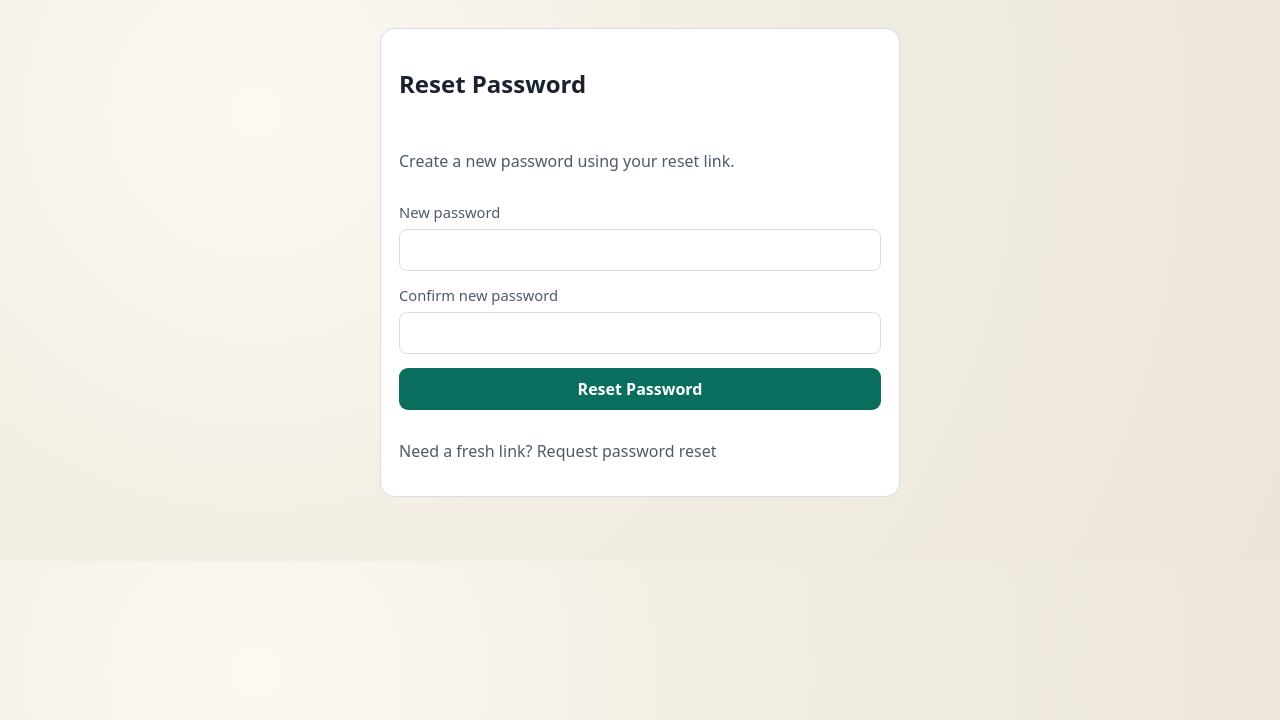
Test: ResetPasswordClient › shows success state on reset
Type "new-password-123" into the password field labelled "New password" at (640,250), box [399,229,881,271]
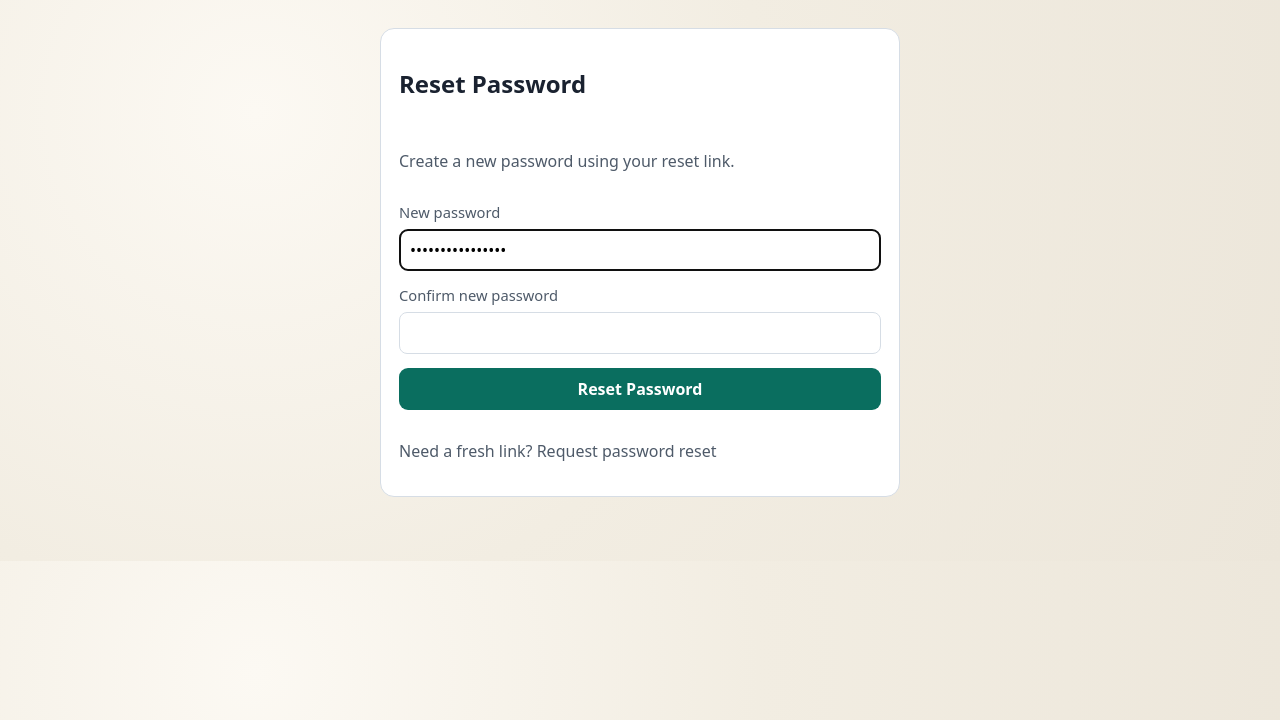
Type "new-password-123" into the password field labelled "Confirm new password" at (640,333), box [399,312,881,354]
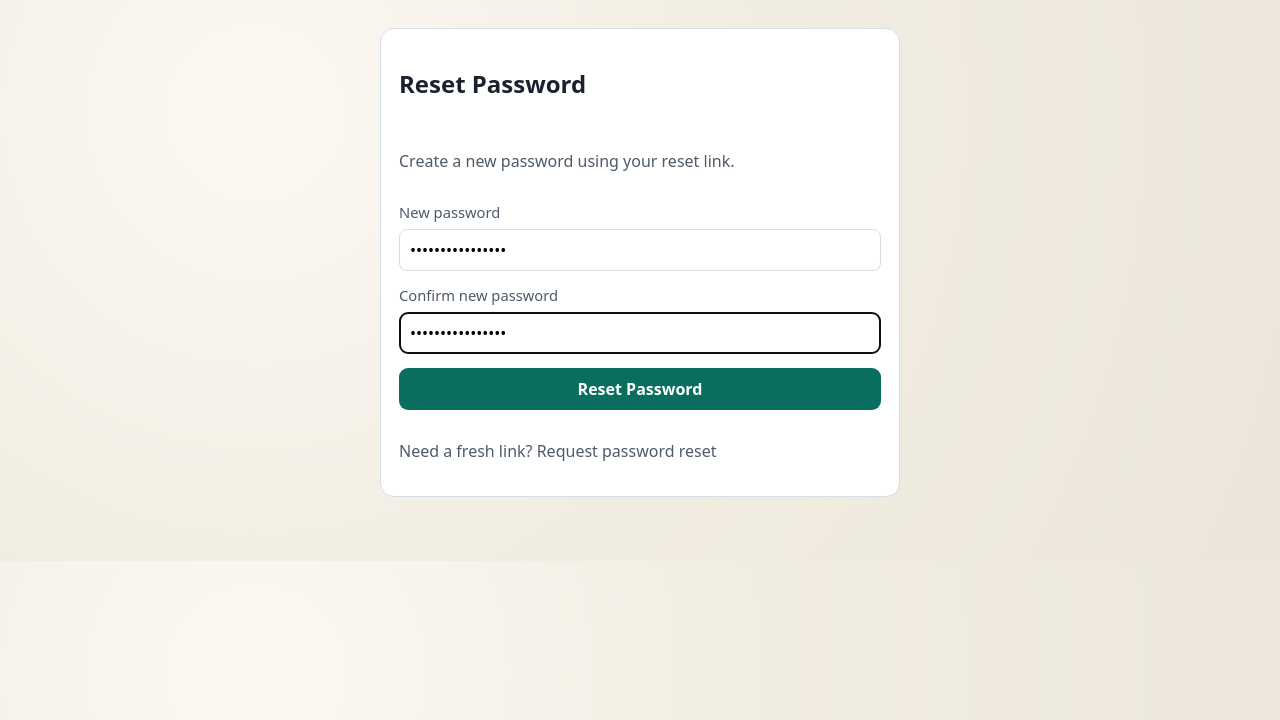
Click the button "Reset Password" at (640,389), box [399,368,881,410]
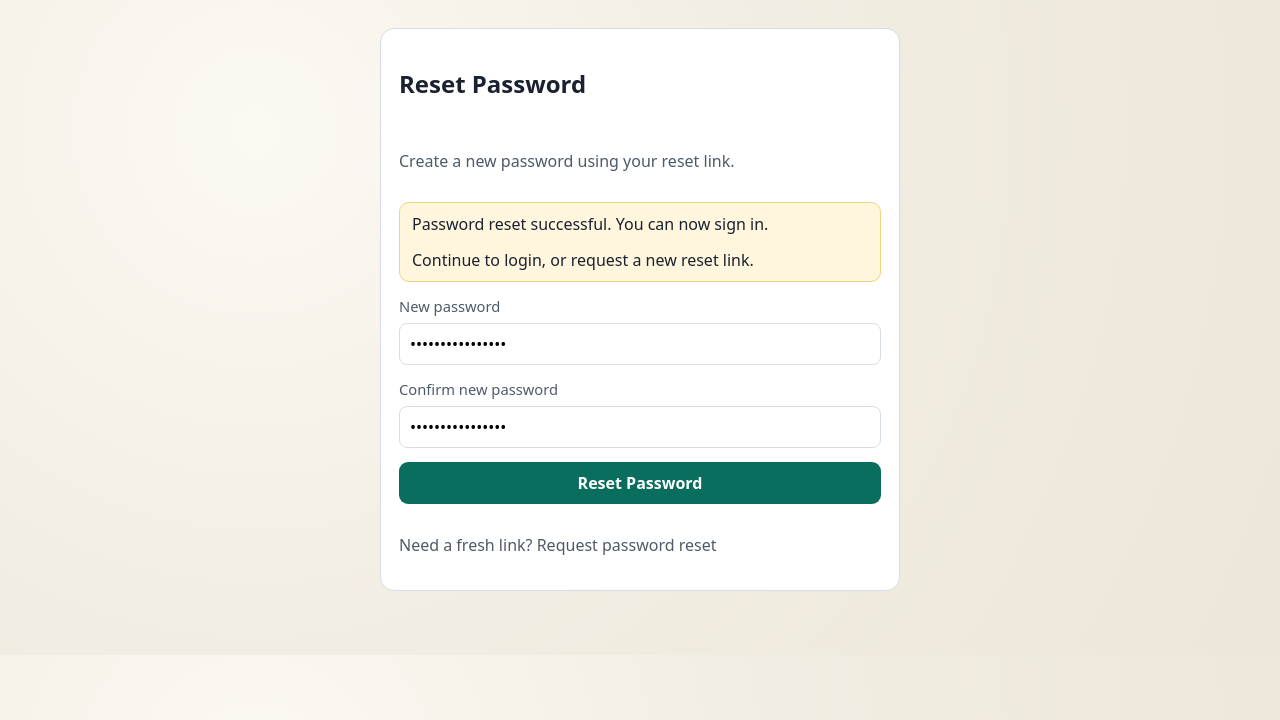
expect the text "Password reset successful. You can now sign in." is shown: met, box [412,213,768,235]
